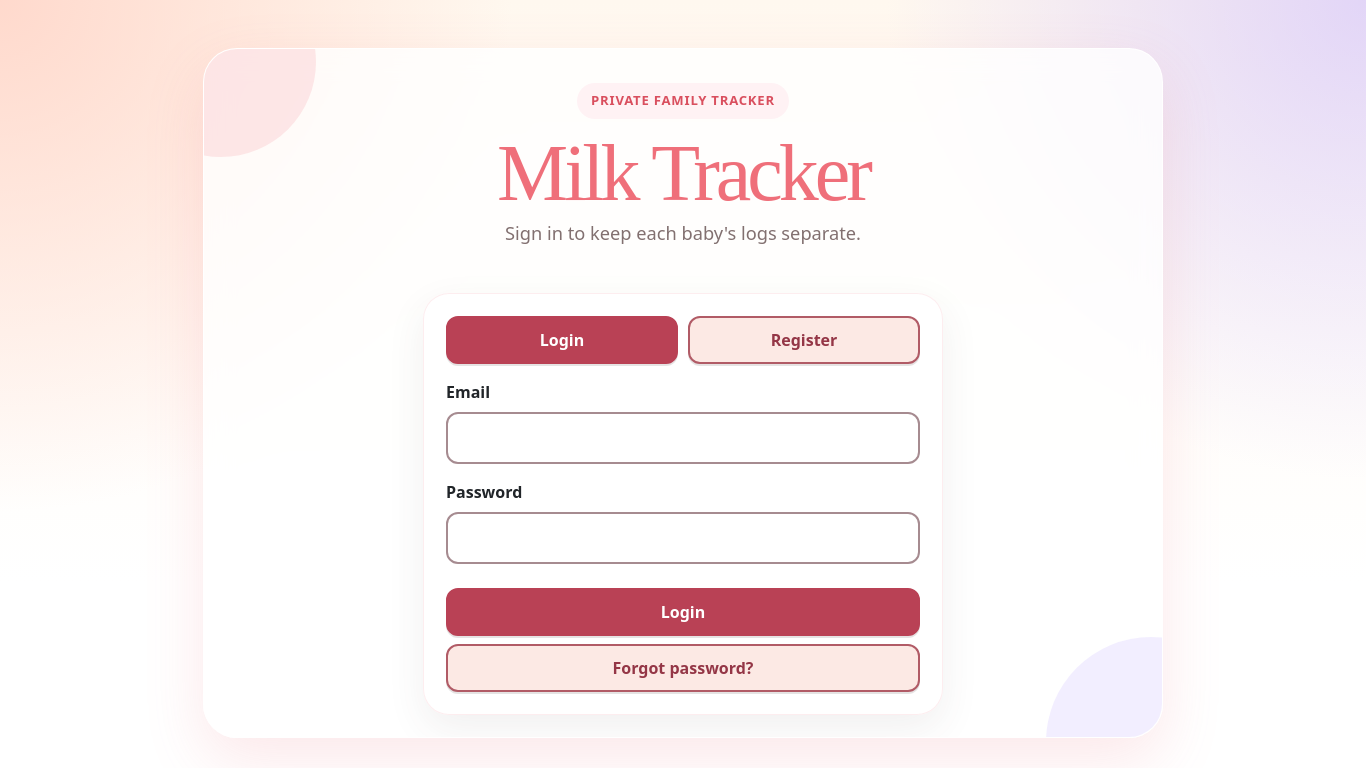
Test: registration confirmation keeps the user on login and explains the email step
Click the button "Register" at (804, 340), box [688,316,920,364]
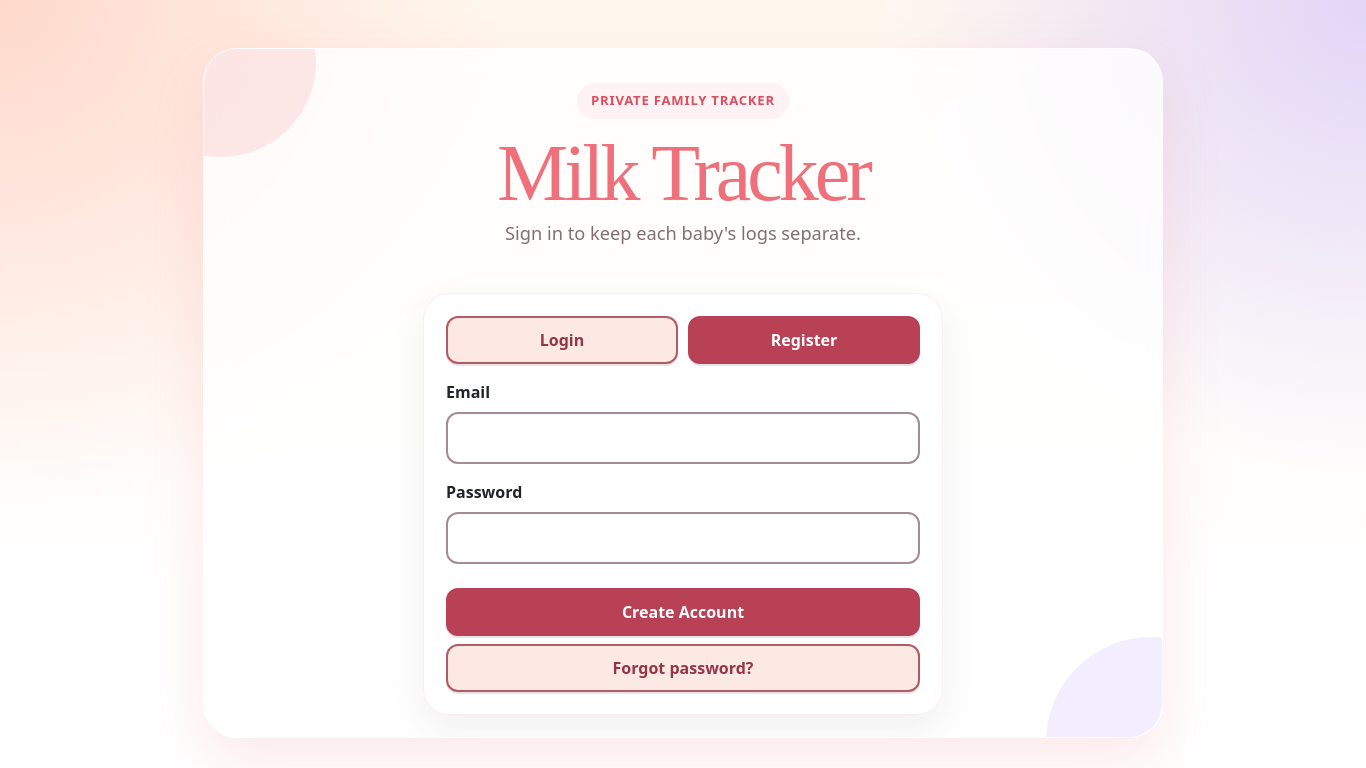
Type "parent@example.com" into the field labelled "Email" at (683, 438), box [446,412,920,464]
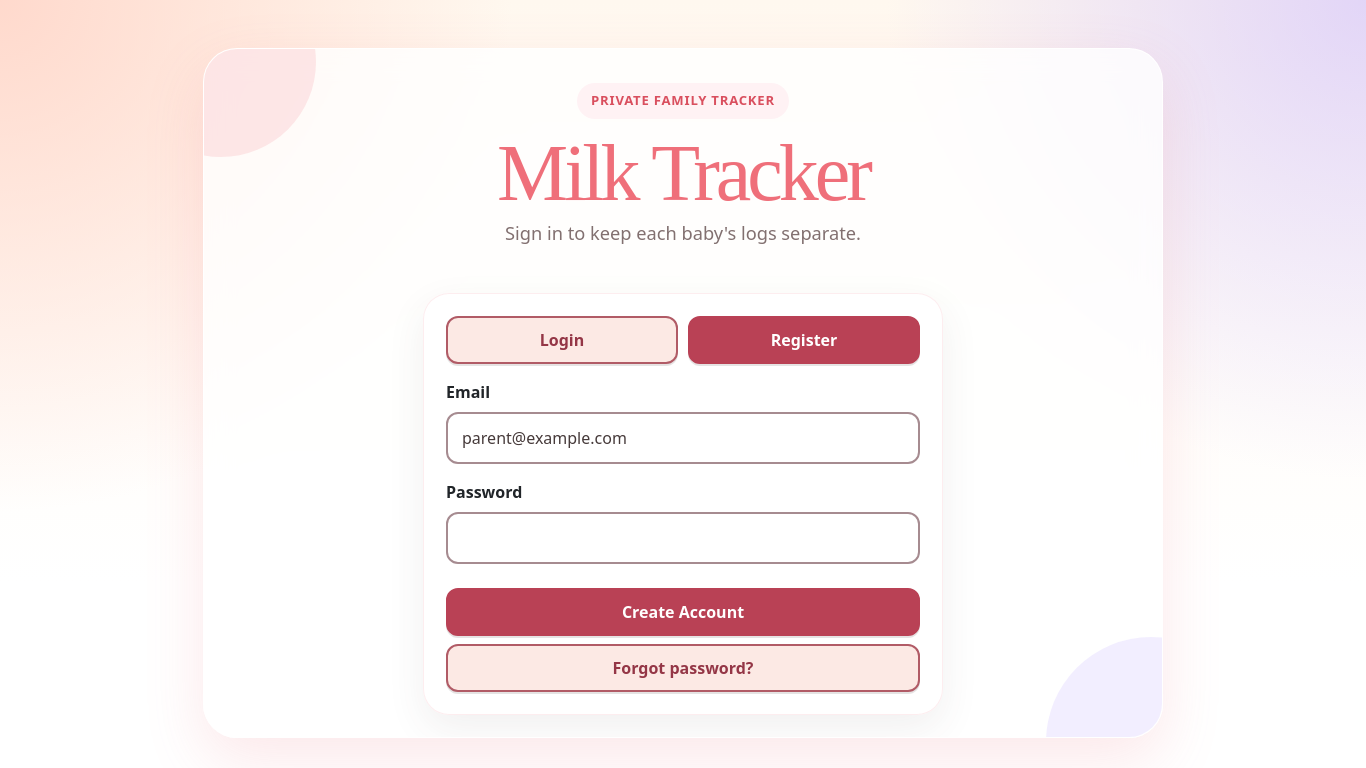
Type "testpass" into the password field labelled "Password" at (683, 538), box [446,512,920,564]
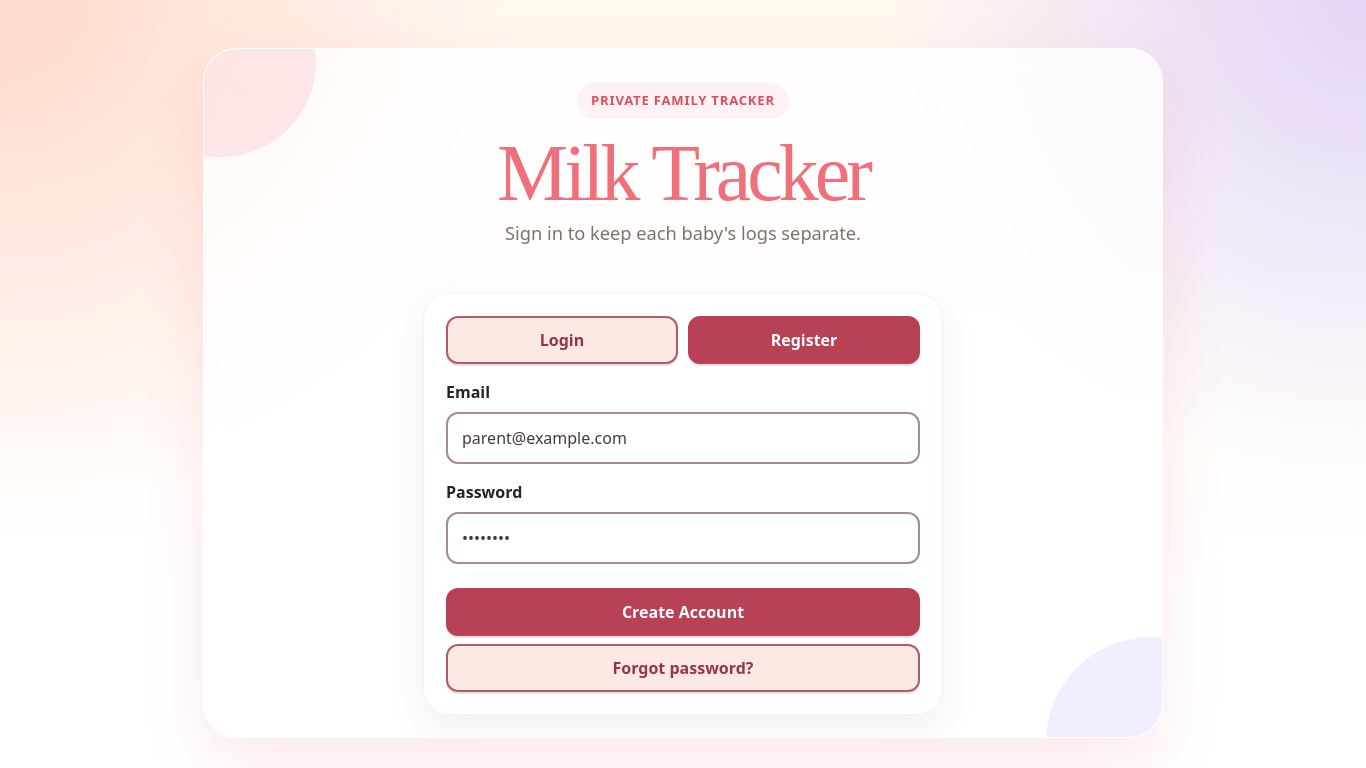
Click the button "Create Account" at (683, 612), box [446,588,920,636]
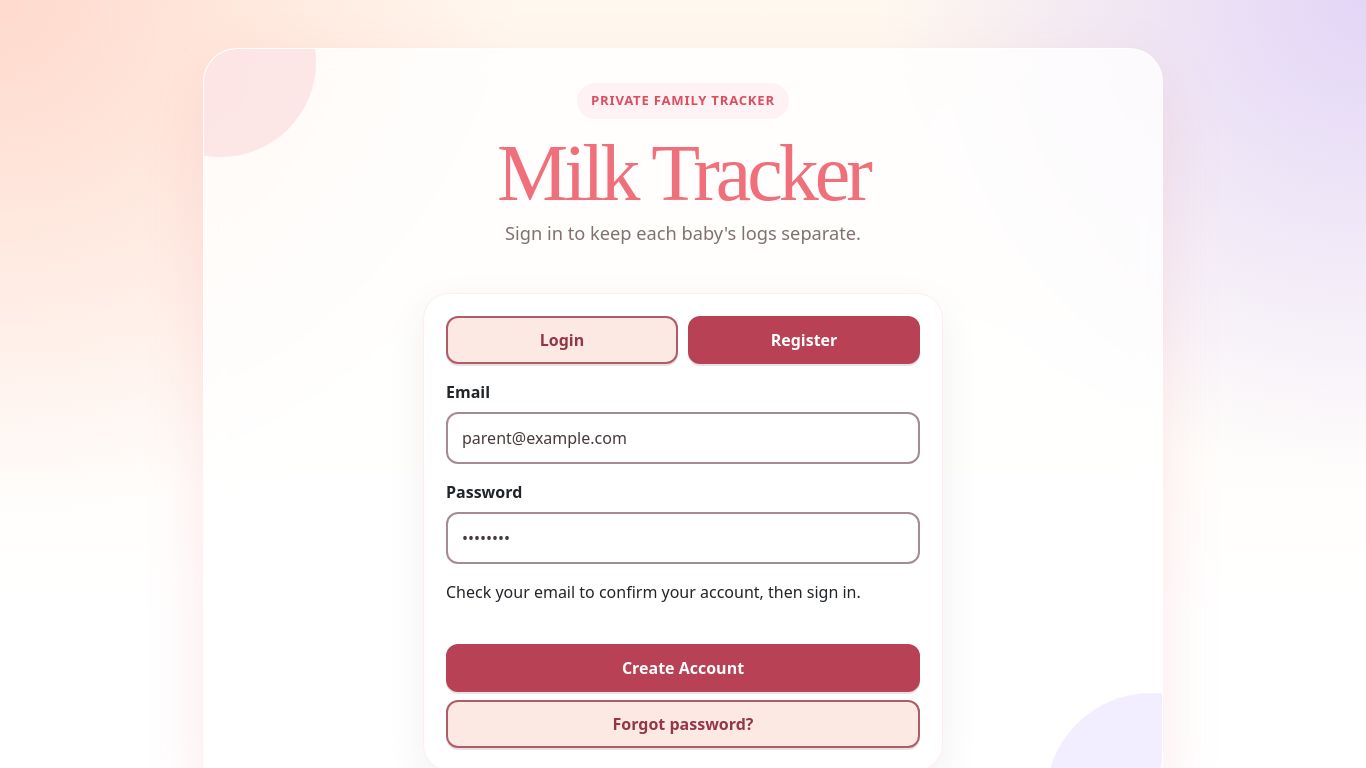
Expected: the text "Check your email to confirm your account, then sign in." is shown, [446,580,920,604]
